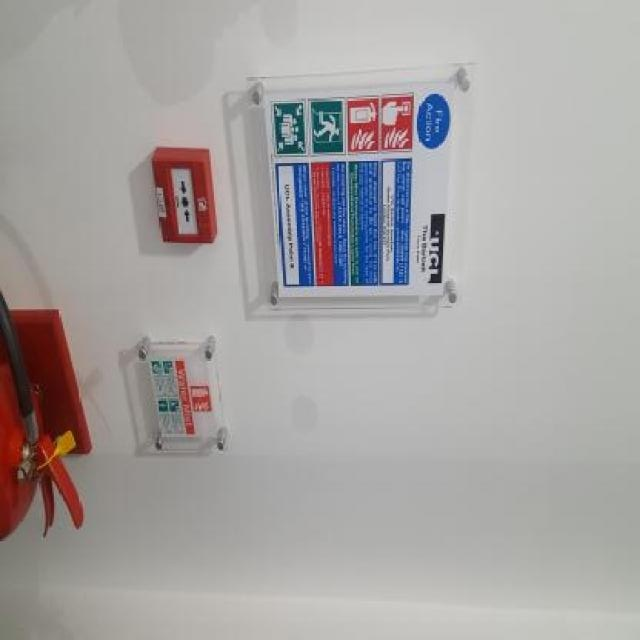fire extinguisher: (0, 294, 83, 541)
